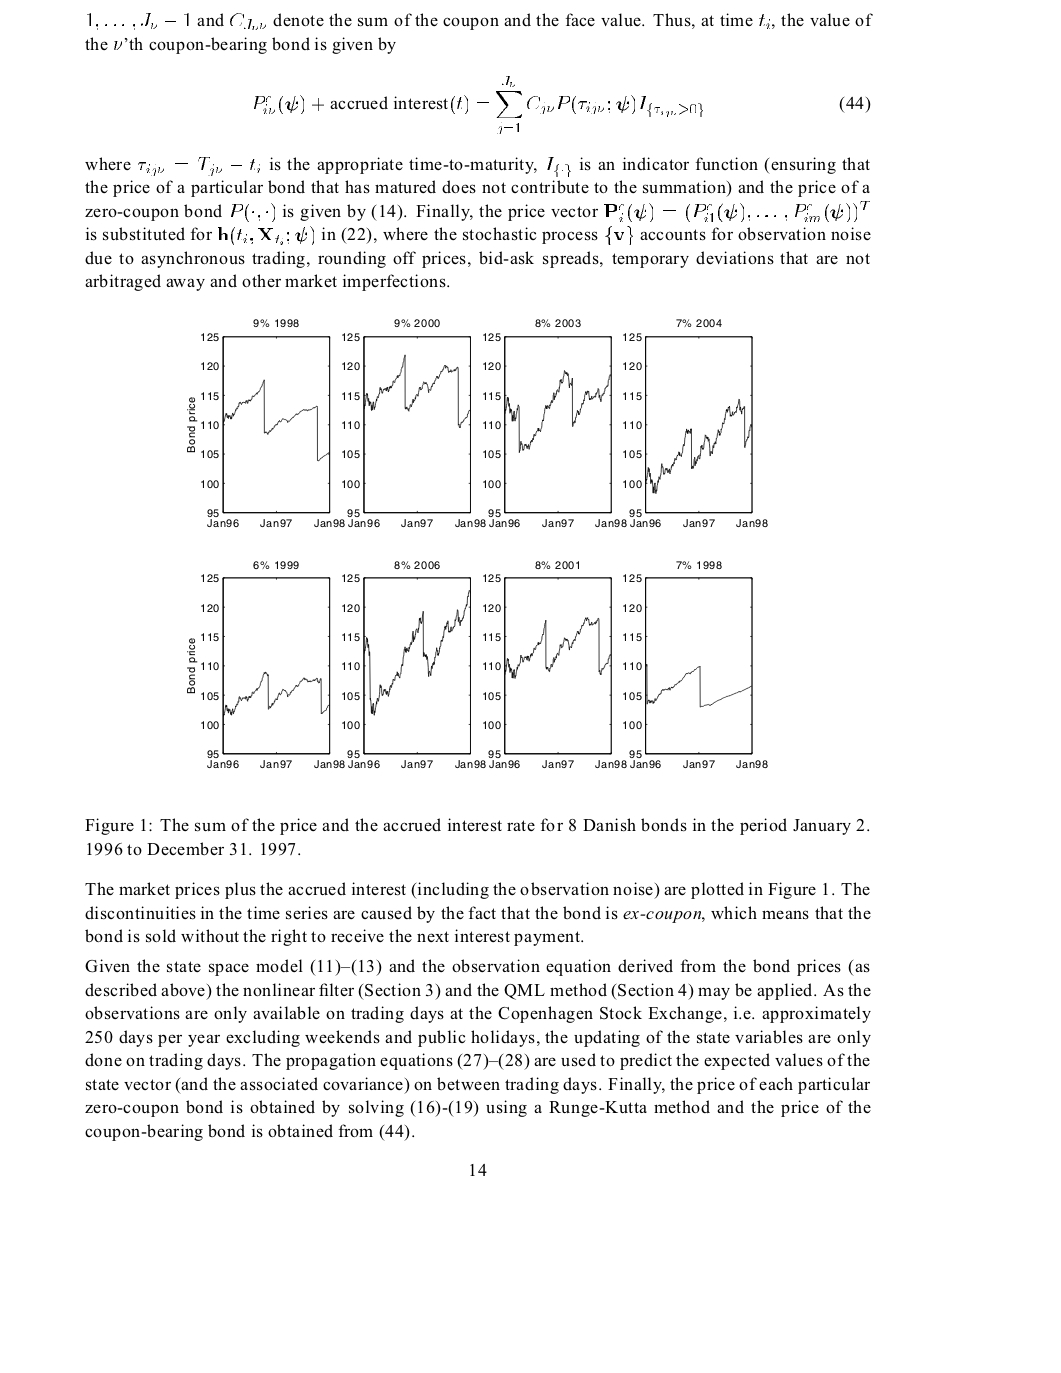figure: (196, 325, 330, 515), (483, 333, 611, 517), (342, 574, 470, 758), (623, 333, 752, 515), (623, 574, 752, 756), (342, 333, 470, 516), (203, 574, 330, 758), (483, 574, 611, 756)
formula: (254, 76, 870, 133)
